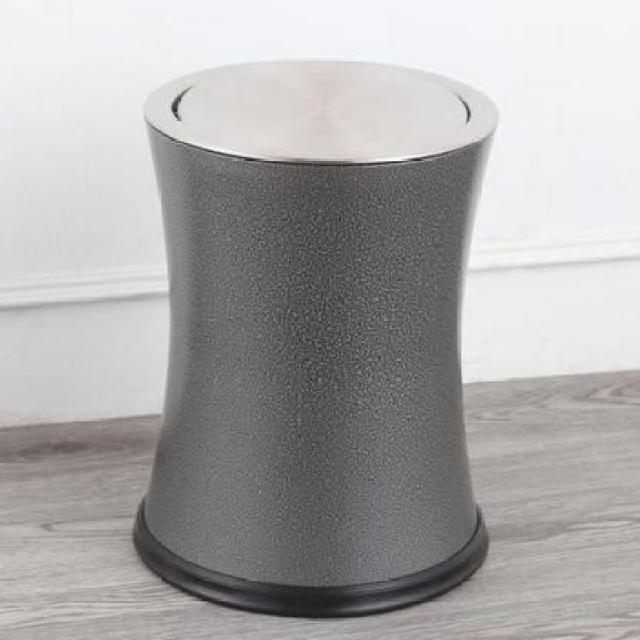dustbin: (129, 52, 503, 624)
